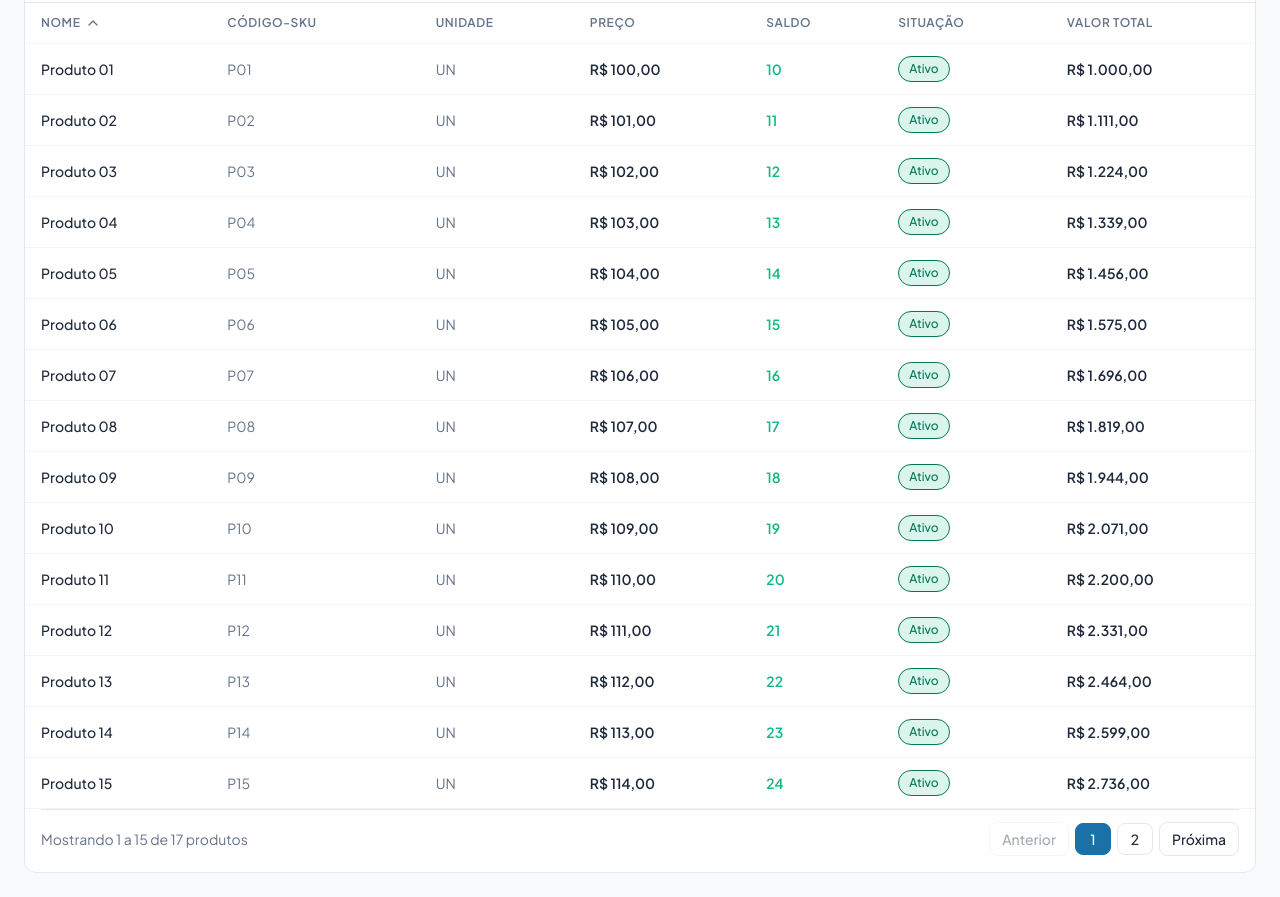
Test case: paginacao em Estoque › filtrar volta para a primeira pagina
(page scrolled)
Click the button "Próxima": (1199, 839) [1159, 822, 1239, 856]
(page scrolled)
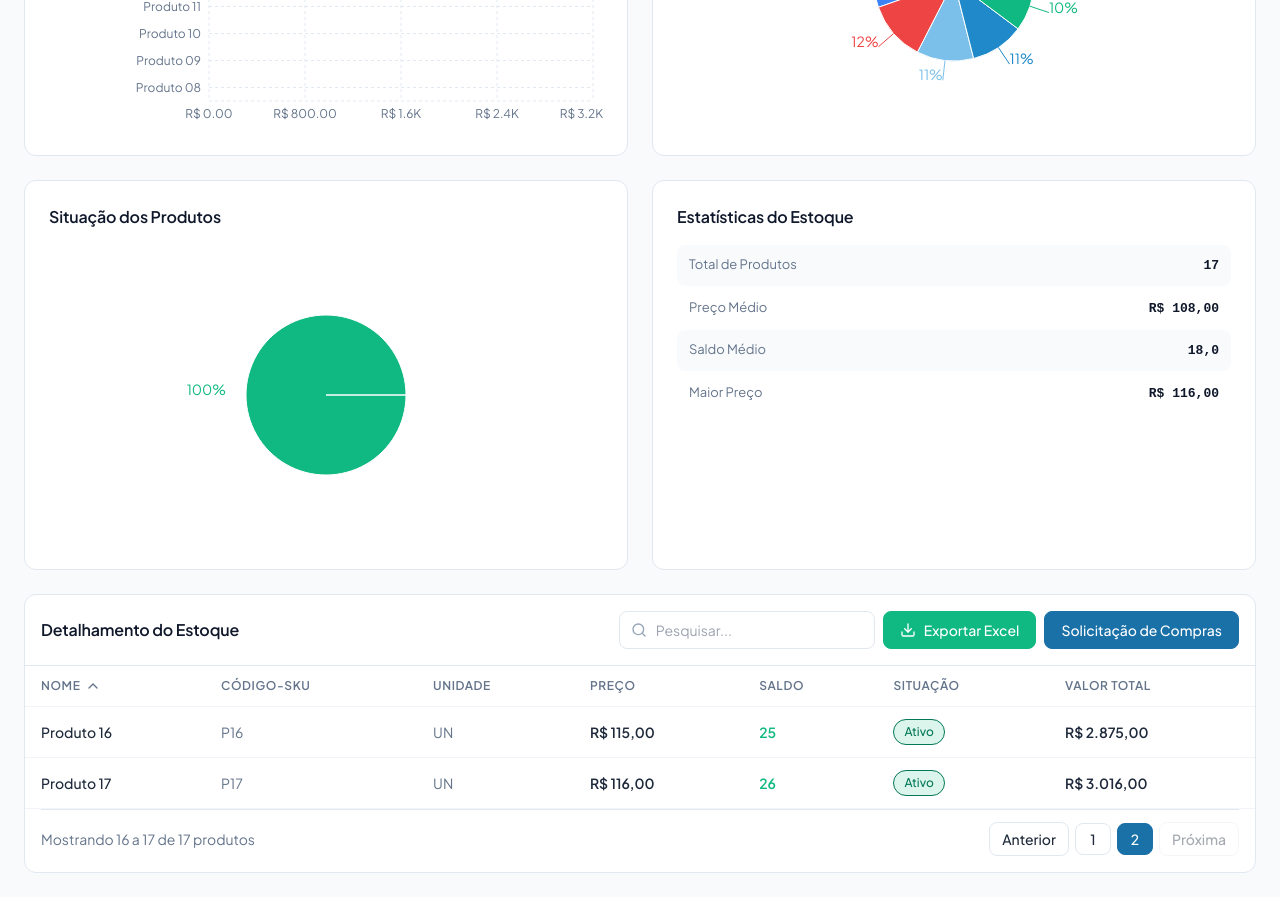
Expected: the text "Mostrando 16 a 17 de 17 produtos" is shown, [41, 829, 255, 849]
In the field with placeholder "Pesquisar...": (747, 630) [619, 611, 875, 649], type "Produto 0"
(page scrolled)
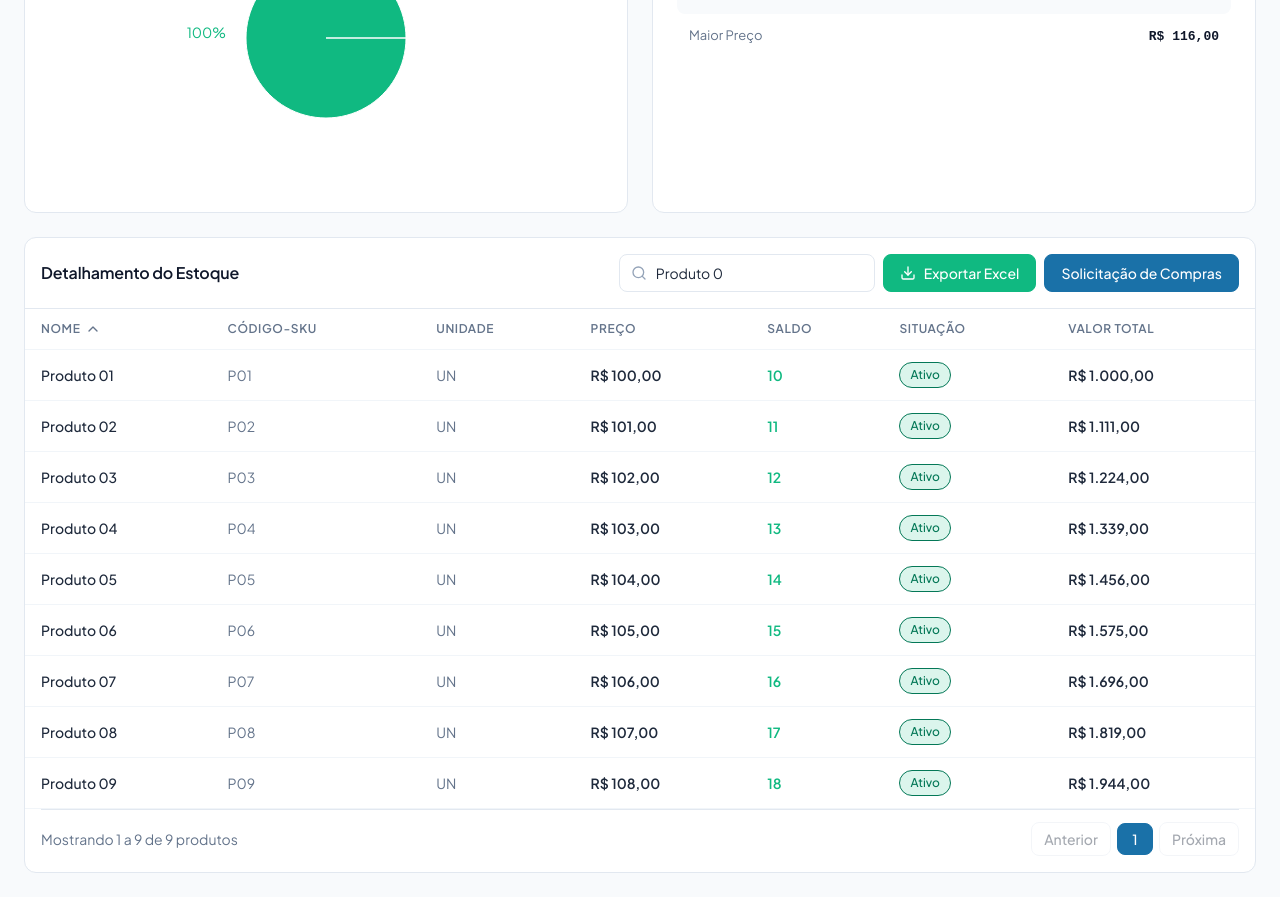
Expected: the text "Mostrando 1 a 9 de 9 produtos" is shown, [41, 829, 238, 849]
Expected: the row "Produto 01 P01 UN R$ 100,00 10 Ativo R$ 1.000,00" is shown, [25, 350, 1255, 400]
